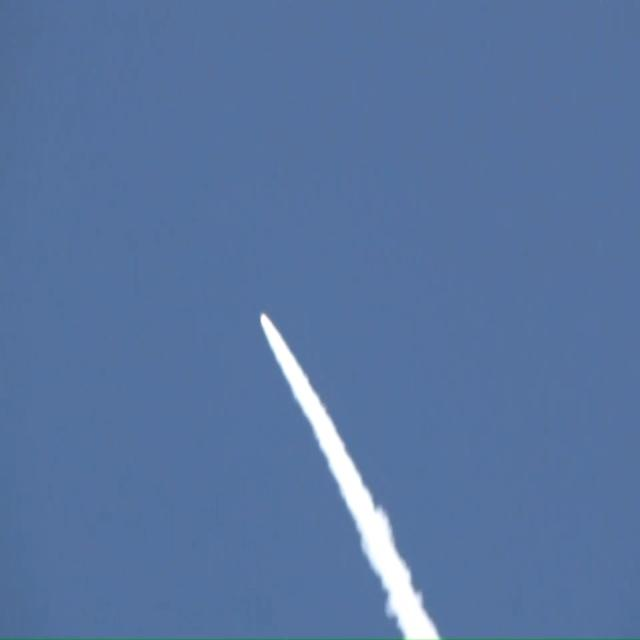Rocket: (258, 311, 264, 321)
